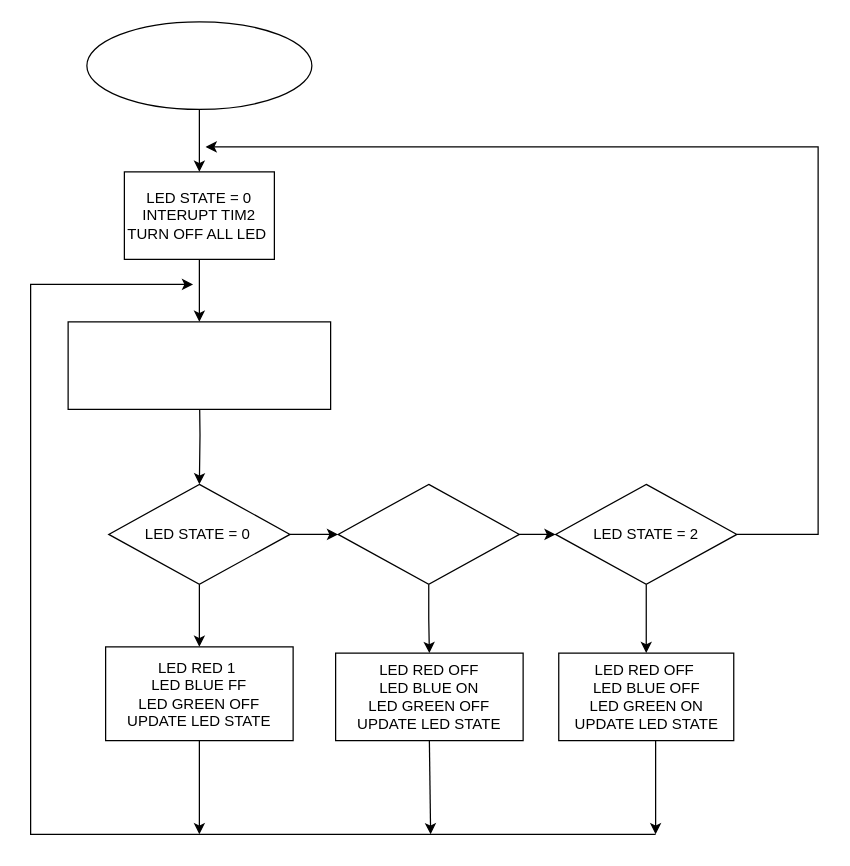
Some shapes in this 850 by 866 pixel diagram are drawn without their labels. The centre of each missing label's shape, as x and y in pixels:
"CHECK LED STATE" belongs at (x=199, y=365).
"LED STATE = 1" belongs at (x=428, y=533).
"START" belongs at (x=199, y=65).
